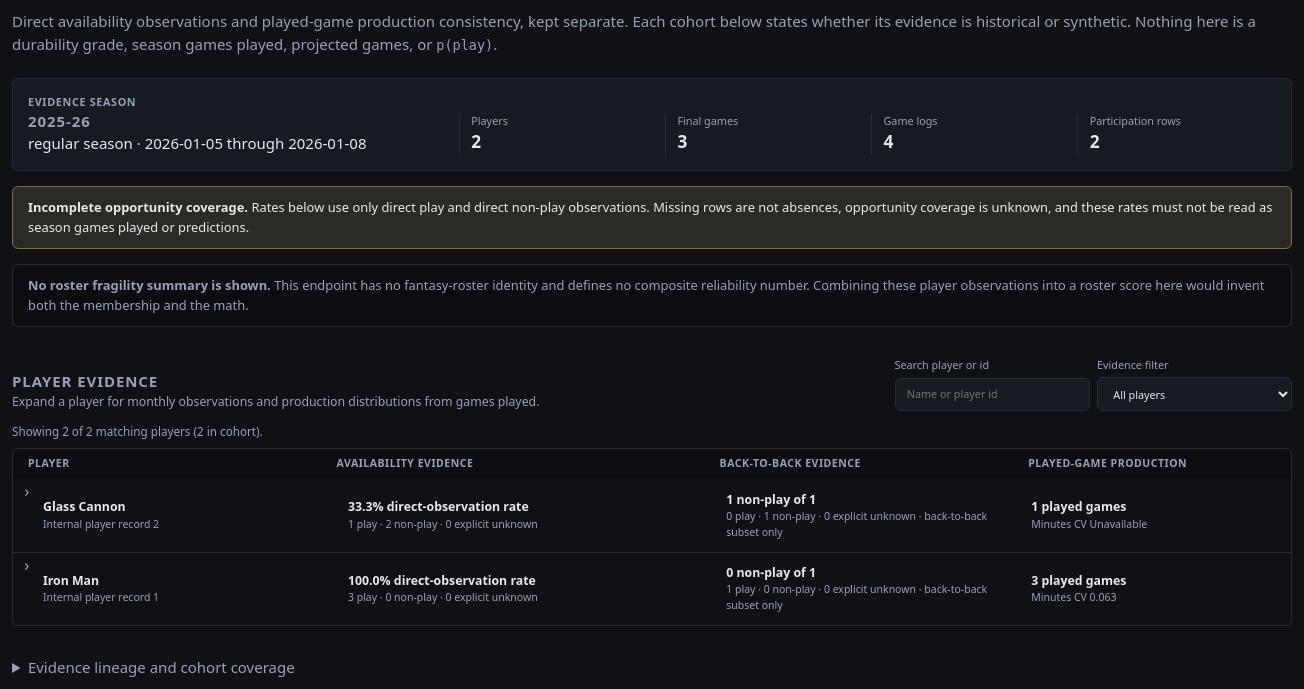
it: ReliabilityPage recorded contract › labels percentage categories as volume-weighted impact and shows their attempt baseline
The image size is (1304, 689).
Click the text "Iron Man" at (71, 580), box [43,572,99,589]
(page scrolled)
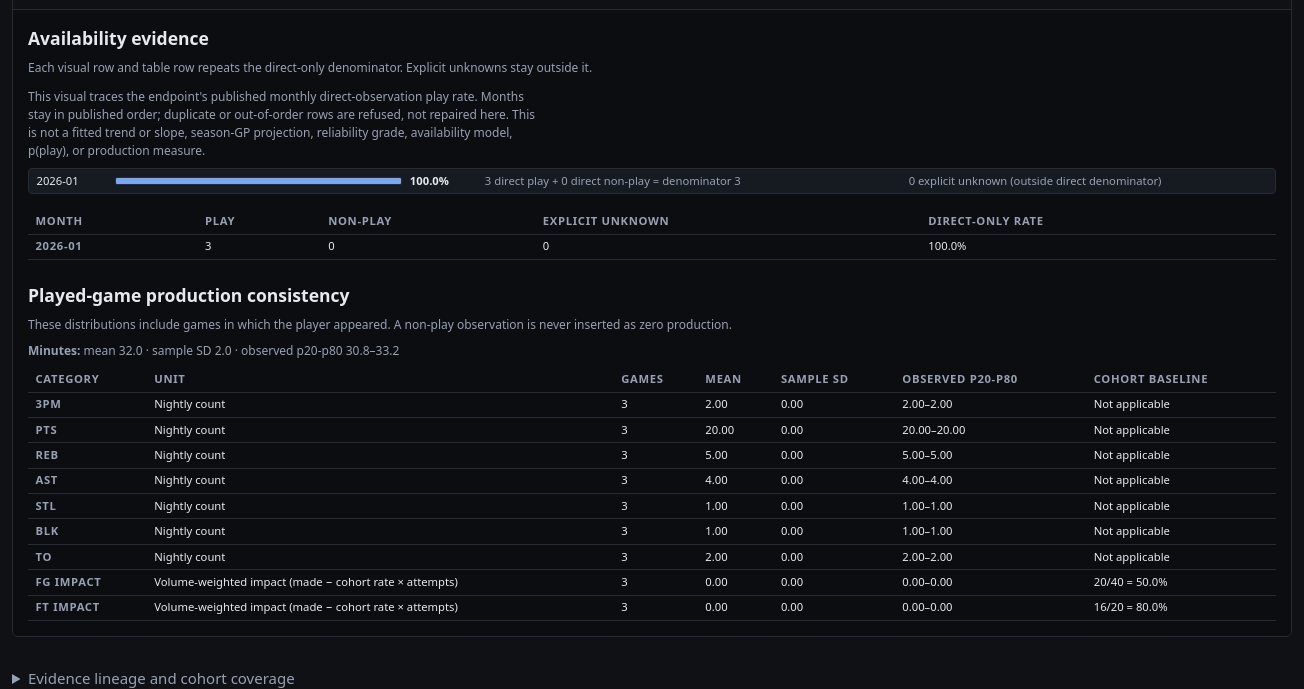
Expected: the row "FG impact" does not show "Raw percentage", [28,570,1276,595]
Now the row "FG impact" shows "Volume-weighted impact", box [154,574,458,589]
Now the row "FG impact" shows "20/40 = 50.0%", box [1094,574,1168,589]
